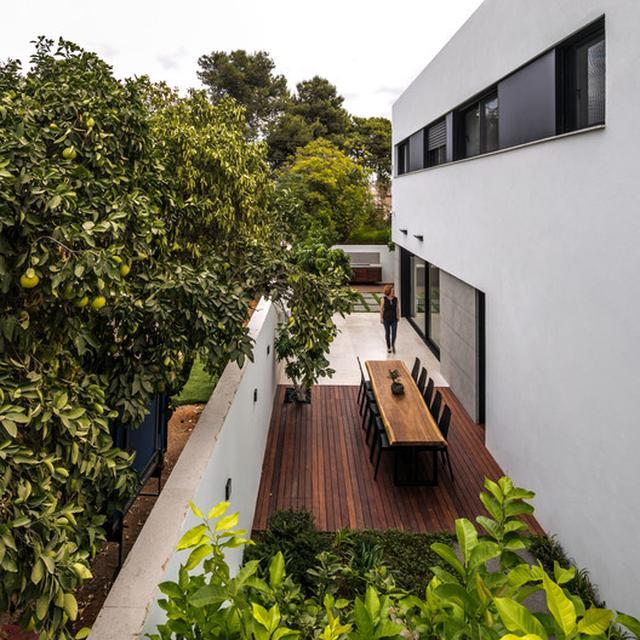building: (391, 0, 640, 636)
